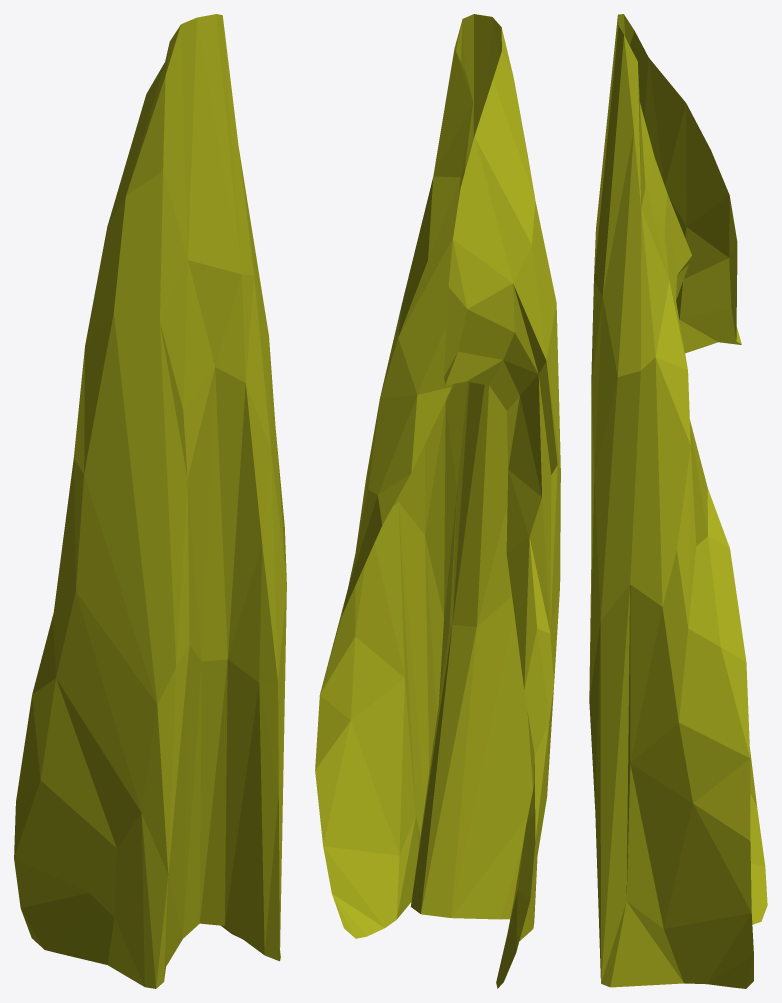
Rendered from Towel02.fbx.
3 views of the same model, side by side, from view 1: azimuth 30°, elevation 25°; view 2: azimuth 150°, elevation 25°; view 3: azimuth 270°, elevation 25° (orthographic). The views are drawn at different scales.
Parts seen in each view (by area): view 1: Towel02LowPoly; view 2: Towel02LowPoly; view 3: Towel02LowPoly.
Part boxes in pixels (bbox=[...]): Towel02LowPoly: bbox=[14, 14, 286, 988]; Towel02LowPoly: bbox=[315, 14, 560, 988]; Towel02LowPoly: bbox=[589, 14, 767, 988].
Size of the model in its own units: 15.98 by 62.77 by 10.73.
